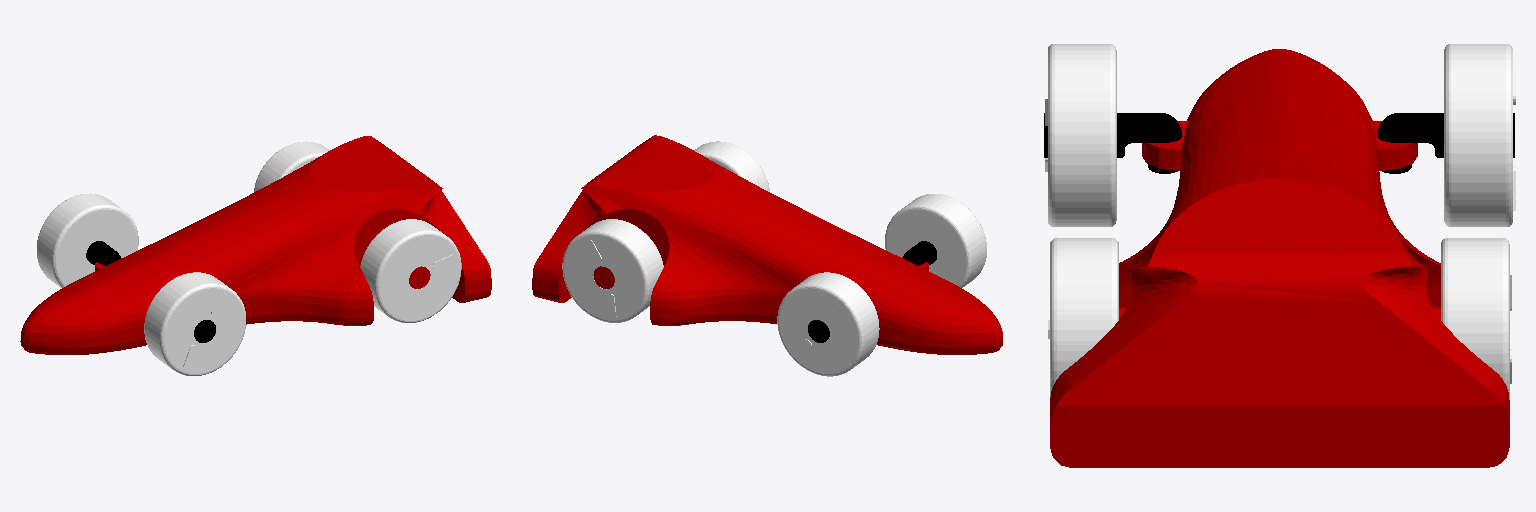
The robot description file, URDF, robot "botcar2":
<?xml version="1.0" encoding="utf-8"?>
<!-- This URDF was automatically created by SolidWorks to URDF Exporter! Originally created by [author] ([email redacted]) 
     Commit Version: 1.6.0-4-g7f85cfe  Build Version: 1.6.7995.38578
     For more information, please see http://wiki.ros.org/sw_urdf_exporter -->
<robot
  name="botcar2">
  
  <material name="black">
    <color rgba="0.0 0.0 0.0 1.0"/>
  </material>

  <material name="red">
    <color rgba="0.8 0.0 0.0 1.0"/>
  </material>

  <material name="white">
    <color rgba="1.0 1.0 1.0 1.0"/>
  </material>
  
  <link
    name="carbody_base_link">
  </link>
  
  <joint
    name="base_to_carbody_joint"
    type="fixed">
    <origin
      xyz="0 0 0.1"
      rpy="-1.5707963267 0 0" />
    <parent
      link="carbody_base_link"  />
    <child
      link="carbody_link"  />>
  </joint>
  
  <link
    name="carbody_link">
    <inertial>
      <origin
        xyz="-0.33507 -0.0031184 0.020174"
        rpy="0 0 0" />
      <mass
        value="30.054" />
      <inertia
        ixx="0.38386"
        ixy="0.015558"
        ixz="-0.11884"
        iyy="1.8292"
        iyz="-0.00072519"
        izz="1.9992" />
    </inertial>
    <visual>
      <origin
        xyz="0 0 0"
        rpy="0 0 0" />
      <geometry>
        <mesh
          filename="package://botcar2/meshes/carbody_link.STL" />
      </geometry>
      <material
        name="red">
      </material>
    </visual>
    <collision>
      <origin
        xyz="0 0 0"
        rpy="0 0 0" />
      <geometry>
        <mesh
          filename="package://botcar2/meshes/carbody_link.STL" />
      </geometry>
    </collision>
  </link>
  <link
    name="stubL_link">
    <inertial>
      <origin
        xyz="0.060775 0.013565 1.7938E-08"
        rpy="0 0 0" />
      <mass
        value="0.27873" />
      <inertia
        ixx="0"
        ixy="0"
        ixz="0"
        iyy="0.00058841"
        iyz="0"
        izz="0.00060561" />
    </inertial>
    <visual>
      <origin
        xyz="0 0 0"
        rpy="0 0 0" />
      <geometry>
        <mesh
          filename="package://botcar2/meshes/stubL_link.STL" />
      </geometry>
      <material
        name="black">
      </material>
    </visual>
    <collision>
      <origin
        xyz="0 0 0"
        rpy="0 0 0" />
      <geometry>
        <mesh
          filename="package://botcar2/meshes/stubL_link.STL" />
      </geometry>
    </collision>
  </link>
  <joint
    name="stubL_joint"
    type="revolute">
    <origin
      xyz="-0.67625 0 -0.12679"
      rpy="3.1416 1.5708 0" />
    <parent
      link="carbody_link" />
    <child
      link="stubL_link" />
    <axis
      xyz="0 -1 0" />
    <limit
      lower="-3.14"
      upper="3.14"
      effort="100"
      velocity="10" />
  </joint>
  <link
    name="wheelFL_link">
    <inertial>
      <origin
        xyz="-5.5511E-17 1.1102E-16 0.034643"
        rpy="0 0 0" />
      <mass
        value="2.6707" />
      <inertia
        ixx="0.0085536"
        ixy="0"
        ixz="0"
        iyy="0.0085633"
        iyz="0"
        izz="0.014556" />
    </inertial>
    <visual>
      <origin
        xyz="0 0 0"
        rpy="0 0 0" />
      <geometry>
        <mesh
          filename="package://botcar2/meshes/wheelFL_link.STL" />
      </geometry>
      <material
        name="white">
      </material>
    </visual>
    <collision>
      <origin
        xyz="0 0 0"
        rpy="0 0 0" />
      <geometry>
        <mesh
          filename="package://botcar2/meshes/wheelFL_link.STL" />
      </geometry>
    </collision>
  </link>
  <joint
    name="wheelFL_joint"
    type="continuous">
    <origin
      xyz="0.05715 0.014439 0"
      rpy="-1.5708 -0.64241 -1.5708" />
    <parent
      link="stubL_link" />
    <child
      link="wheelFL_link" />
    <axis
      xyz="0 0 1" />
  </joint>
  <link
    name="stubR_link">
    <inertial>
      <origin
        xyz="0.060775 0.013565 1.7438E-08"
        rpy="0 0 0" />
      <mass
        value="0.27873" />
      <inertia
        ixx="0"
        ixy="0"
        ixz="0"
        iyy="0.00058841"
        iyz="0"
        izz="0.00060561" />
    </inertial>
    <visual>
      <origin
        xyz="0 0 0"
        rpy="0 0 0" />
      <geometry>
        <mesh
          filename="package://botcar2/meshes/stubR_link.STL" />
      </geometry>
      <material
        name="black">
      </material>
    </visual>
    <collision>
      <origin
        xyz="0 0 0"
        rpy="0 0 0" />
      <geometry>
        <mesh
          filename="package://botcar2/meshes/stubR_link.STL" />
      </geometry>
    </collision>
  </link>
  <joint
    name="stubR_joint"
    type="revolute">
    <origin
      xyz="-0.67625 0 0.12679"
      rpy="0 -1.5708 3.1416" />
    <parent
      link="carbody_link" />
    <child
      link="stubR_link" />
    <axis
      xyz="0 -1 0" />
    <limit
      lower="-3.14"
      upper="3.14"
      effort="100"
      velocity="10" />
  </joint>
  <link
    name="wheelFR_link">
    <inertial>
      <origin
        xyz="0 1.1102E-16 0.035923"
        rpy="0 0 0" />
      <mass
        value="2.6707" />
      <inertia
        ixx="0.0085536"
        ixy="0"
        ixz="0"
        iyy="0.0085633"
        iyz="0"
        izz="0.014556" />
    </inertial>
    <visual>
      <origin
        xyz="0 0 0"
        rpy="0 0 0" />
      <geometry>
        <mesh
          filename="package://botcar2/meshes/wheelFR_link.STL" />
      </geometry>
      <material
        name="white">
      </material>
    </visual>
    <collision>
      <origin
        xyz="0 0 0"
        rpy="0 0 0" />
      <geometry>
        <mesh
          filename="package://botcar2/meshes/wheelFR_link.STL" />
      </geometry>
    </collision>
  </link>
  <joint
    name="wheelFR_joint"
    type="continuous">
    <origin
      xyz="0.05715 0.014439 0"
      rpy="1.5708 0.64981 1.5708" />
    <parent
      link="stubR_link" />
    <child
      link="wheelFR_link" />
    <axis
      xyz="0 0 1" />
  </joint>
  <link
    name="wheelRR_link">
    <inertial>
      <origin
        xyz="-6.9389E-18 0 0.03815"
        rpy="0 0 0" />
      <mass
        value="2.6707" />
      <inertia
        ixx="0.0085536"
        ixy="0"
        ixz="0"
        iyy="0.0085633"
        iyz="0"
        izz="0.014556" />
    </inertial>
    <visual>
      <origin
        xyz="0 0 0"
        rpy="0 0 0" />
      <geometry>
        <mesh
          filename="package://botcar2/meshes/wheelRR_link.STL" />
      </geometry>
      <material
        name="white">
      </material>
    </visual>
    <collision>
      <origin
        xyz="0 0 0"
        rpy="0 0 0" />
      <geometry>
        <mesh
          filename="package://botcar2/meshes/wheelRR_link.STL" />
      </geometry>
    </collision>
  </link>
  <joint
    name="wheelRR_joint"
    type="continuous">
    <origin
      xyz="-0.16858 -0.014439 0.1778"
      rpy="0 0 1.9221" />
    <parent
      link="carbody_link" />
    <child
      link="wheelRR_link" />
    <axis
      xyz="0 0 1" />
  </joint>
  <link
    name="wheelRL_link">
    <inertial>
      <origin
        xyz="0 0 0.03815"
        rpy="0 0 0" />
      <mass
        value="2.6707" />
      <inertia
        ixx="0.0085536"
        ixy="0"
        ixz="0"
        iyy="0.0085633"
        iyz="0"
        izz="0.014556" />
    </inertial>
    <visual>
      <origin
        xyz="0 0 0"
        rpy="0 0 0" />
      <geometry>
        <mesh
          filename="package://botcar2/meshes/wheelRL_link.STL" />
      </geometry>
      <material
        name="white">
      </material>
    </visual>
    <collision>
      <origin
        xyz="0 0 0"
        rpy="0 0 0" />
      <geometry>
        <mesh
          filename="package://botcar2/meshes/wheelRL_link.STL" />
      </geometry>
    </collision>
  </link>
  <joint
    name="wheelRL_joint"
    type="continuous">
    <origin
      xyz="-0.16858 -0.014439 -0.1778"
      rpy="-3.1416 0 2.7121" />
    <parent
      link="carbody_link" />
    <child
      link="wheelRL_link" />
    <axis
      xyz="0 0 -1" />
  </joint>
  
  <gazebo reference="carbody_link">
    <material>Gazebo/Red</material>
  </gazebo>
  <gazebo reference="stubL_link">
    <material>Gazebo/Black</material>
  </gazebo>
  <gazebo reference="stubR_link">
    <material>Gazebo/Black</material>
  </gazebo>
  <gazebo reference="wheelFR_link">
    <material>Gazebo/White</material>
  </gazebo>
  <gazebo reference="wheelFL_link">
    <material>Gazebo/White</material>
  </gazebo>
  <gazebo reference="wheelRR_link">
    <material>Gazebo/White</material>
  </gazebo>
  <gazebo reference="wheelRL_link">
    <material>Gazebo/White</material>
  </gazebo>

  
  <transmission name="steerR_trans">
    <type>transmission_interface/SimpleTransmission</type>
    <joint name="stubR_joint">
      <hardwareInterface>hardware_interface/PositionJointInterface</hardwareInterface>
    </joint>
    <actuator name="steerR_motor">
      <mechanicalReduction>50</mechanicalReduction>
      <hardwareInterface>hardware_interface/PositionJointInterface</hardwareInterface>
    </actuator>
  </transmission>
  
  <transmission name="steerL_trans">
    <type>transmission_interface/SimpleTransmission</type>
    <joint name="stubL_joint">
      <hardwareInterface>hardware_interface/PositionJointInterface</hardwareInterface>
    </joint>
    <actuator name="steerL_motor">
      <mechanicalReduction>50</mechanicalReduction>
      <hardwareInterface>hardware_interface/PositionJointInterface</hardwareInterface>
    </actuator>
  </transmission>
  
  <transmission name="wheelR_trans">
    <type>transmission_interface/SimpleTransmission</type>
    <joint name="wheelRR_joint">
      <hardwareInterface>hardware_interface/VelocityJointInterface</hardwareInterface>
    </joint>
    <actuator name="driveR_motor">
      <mechanicalReduction>50</mechanicalReduction>
      <hardwareInterface>hardware_interface/VelocityJointInterface</hardwareInterface>
    </actuator>
  </transmission>
  
  <transmission name="wheelL_trans">
    <type>transmission_interface/SimpleTransmission</type>
    <joint name="wheelRL_joint">
      <hardwareInterface>hardware_interface/VelocityJointInterface</hardwareInterface>
    </joint>
    <actuator name="driveL_motor">
      <mechanicalReduction>50</mechanicalReduction>
      <hardwareInterface>hardware_interface/VelocityJointInterface</hardwareInterface>
    </actuator>
  </transmission>
</robot>

--- Render facts (derived) ---
The picture shows the robot from 3 angles, left to right: view 1: azimuth 30°, elevation 25°; view 2: azimuth 150°, elevation 25°; view 3: azimuth 270°, elevation 25°; orthographic projection.
Robot: botcar2 — 8 links, 7 joints (2 revolute, 4 continuous, 1 fixed); root link carbody_base_link; default pose: all joints at 0.
Visible links, largest first — view 1: carbody_link, wheelFL_link, wheelRL_link, wheelFR_link, wheelRR_link, stubR_link; view 2: carbody_link, wheelFR_link, wheelRR_link, wheelFL_link, wheelRL_link, stubL_link; view 3: carbody_link, wheelFR_link, wheelFL_link, wheelRR_link, wheelRL_link, stubR_link, stubL_link.
Boxes of the visible links, bbox=[...] form: carbody_link: bbox=[20, 136, 491, 354]; wheelFL_link: bbox=[144, 272, 245, 375]; wheelRL_link: bbox=[360, 219, 461, 322]; wheelFR_link: bbox=[37, 193, 138, 287]; wheelRR_link: bbox=[254, 141, 329, 191]; stubR_link: bbox=[86, 241, 120, 265]; carbody_link: bbox=[532, 135, 1002, 354]; wheelFR_link: bbox=[777, 272, 879, 376]; wheelRR_link: bbox=[562, 219, 663, 322]; wheelFL_link: bbox=[885, 194, 986, 287]; wheelRL_link: bbox=[694, 141, 769, 191]; stubL_link: bbox=[903, 241, 936, 265]; carbody_link: bbox=[1050, 49, 1509, 467]; wheelFR_link: bbox=[1444, 44, 1515, 226]; wheelFL_link: bbox=[1045, 44, 1116, 226]; wheelRR_link: bbox=[1441, 238, 1511, 399]; wheelRL_link: bbox=[1048, 238, 1118, 396]; stubR_link: bbox=[1377, 113, 1514, 173]; stubL_link: bbox=[1044, 113, 1181, 173].
Bounding box of the posed robot: 0.9576 × 0.5206 × 0.2396 m (x, y, z).
7 mesh visuals loaded from 7 distinct referenced files (7 binary STL).